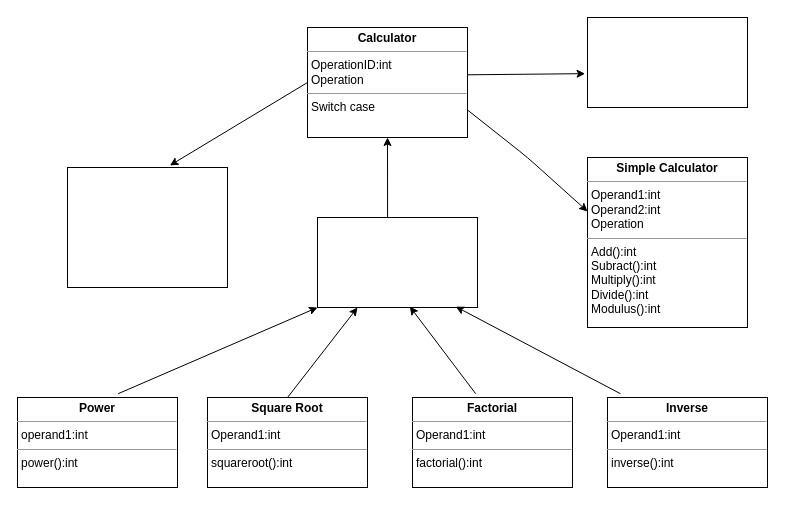
Some shapes in this 785 by 505 pixel diagram are drawn without their labels. Each missing label, with the centre of its shape:
"Conversions Operand1:int Currency():int Length():int Time():int" belongs at (x=147, y=227).
"Display Display result Clear" belongs at (x=667, y=62).
"Scientific Calculator Model:int Display info" belongs at (x=397, y=262).
